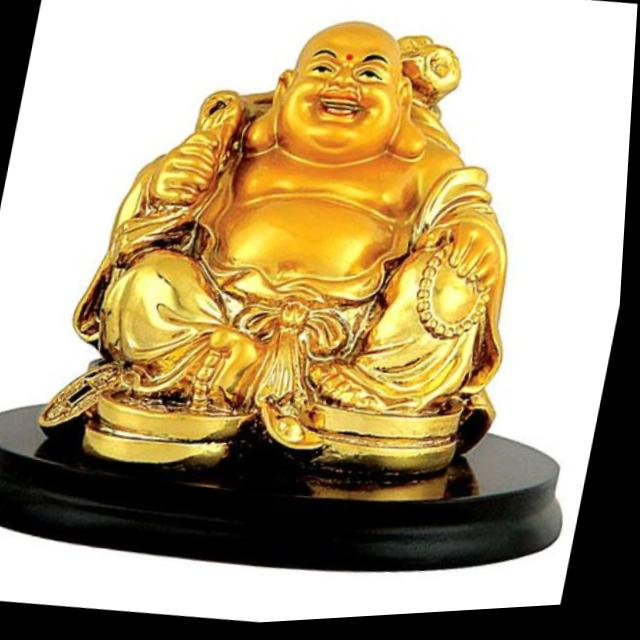Smiling Buddha: (119, 0, 509, 434)
